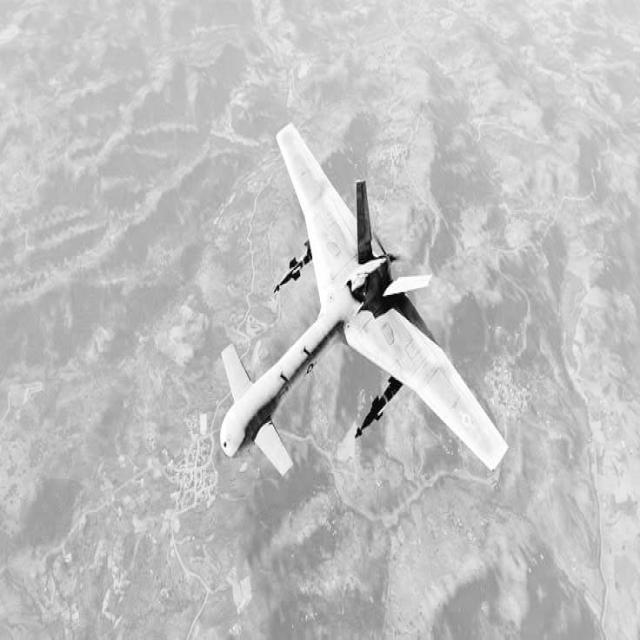iha: (220, 60, 507, 473)
